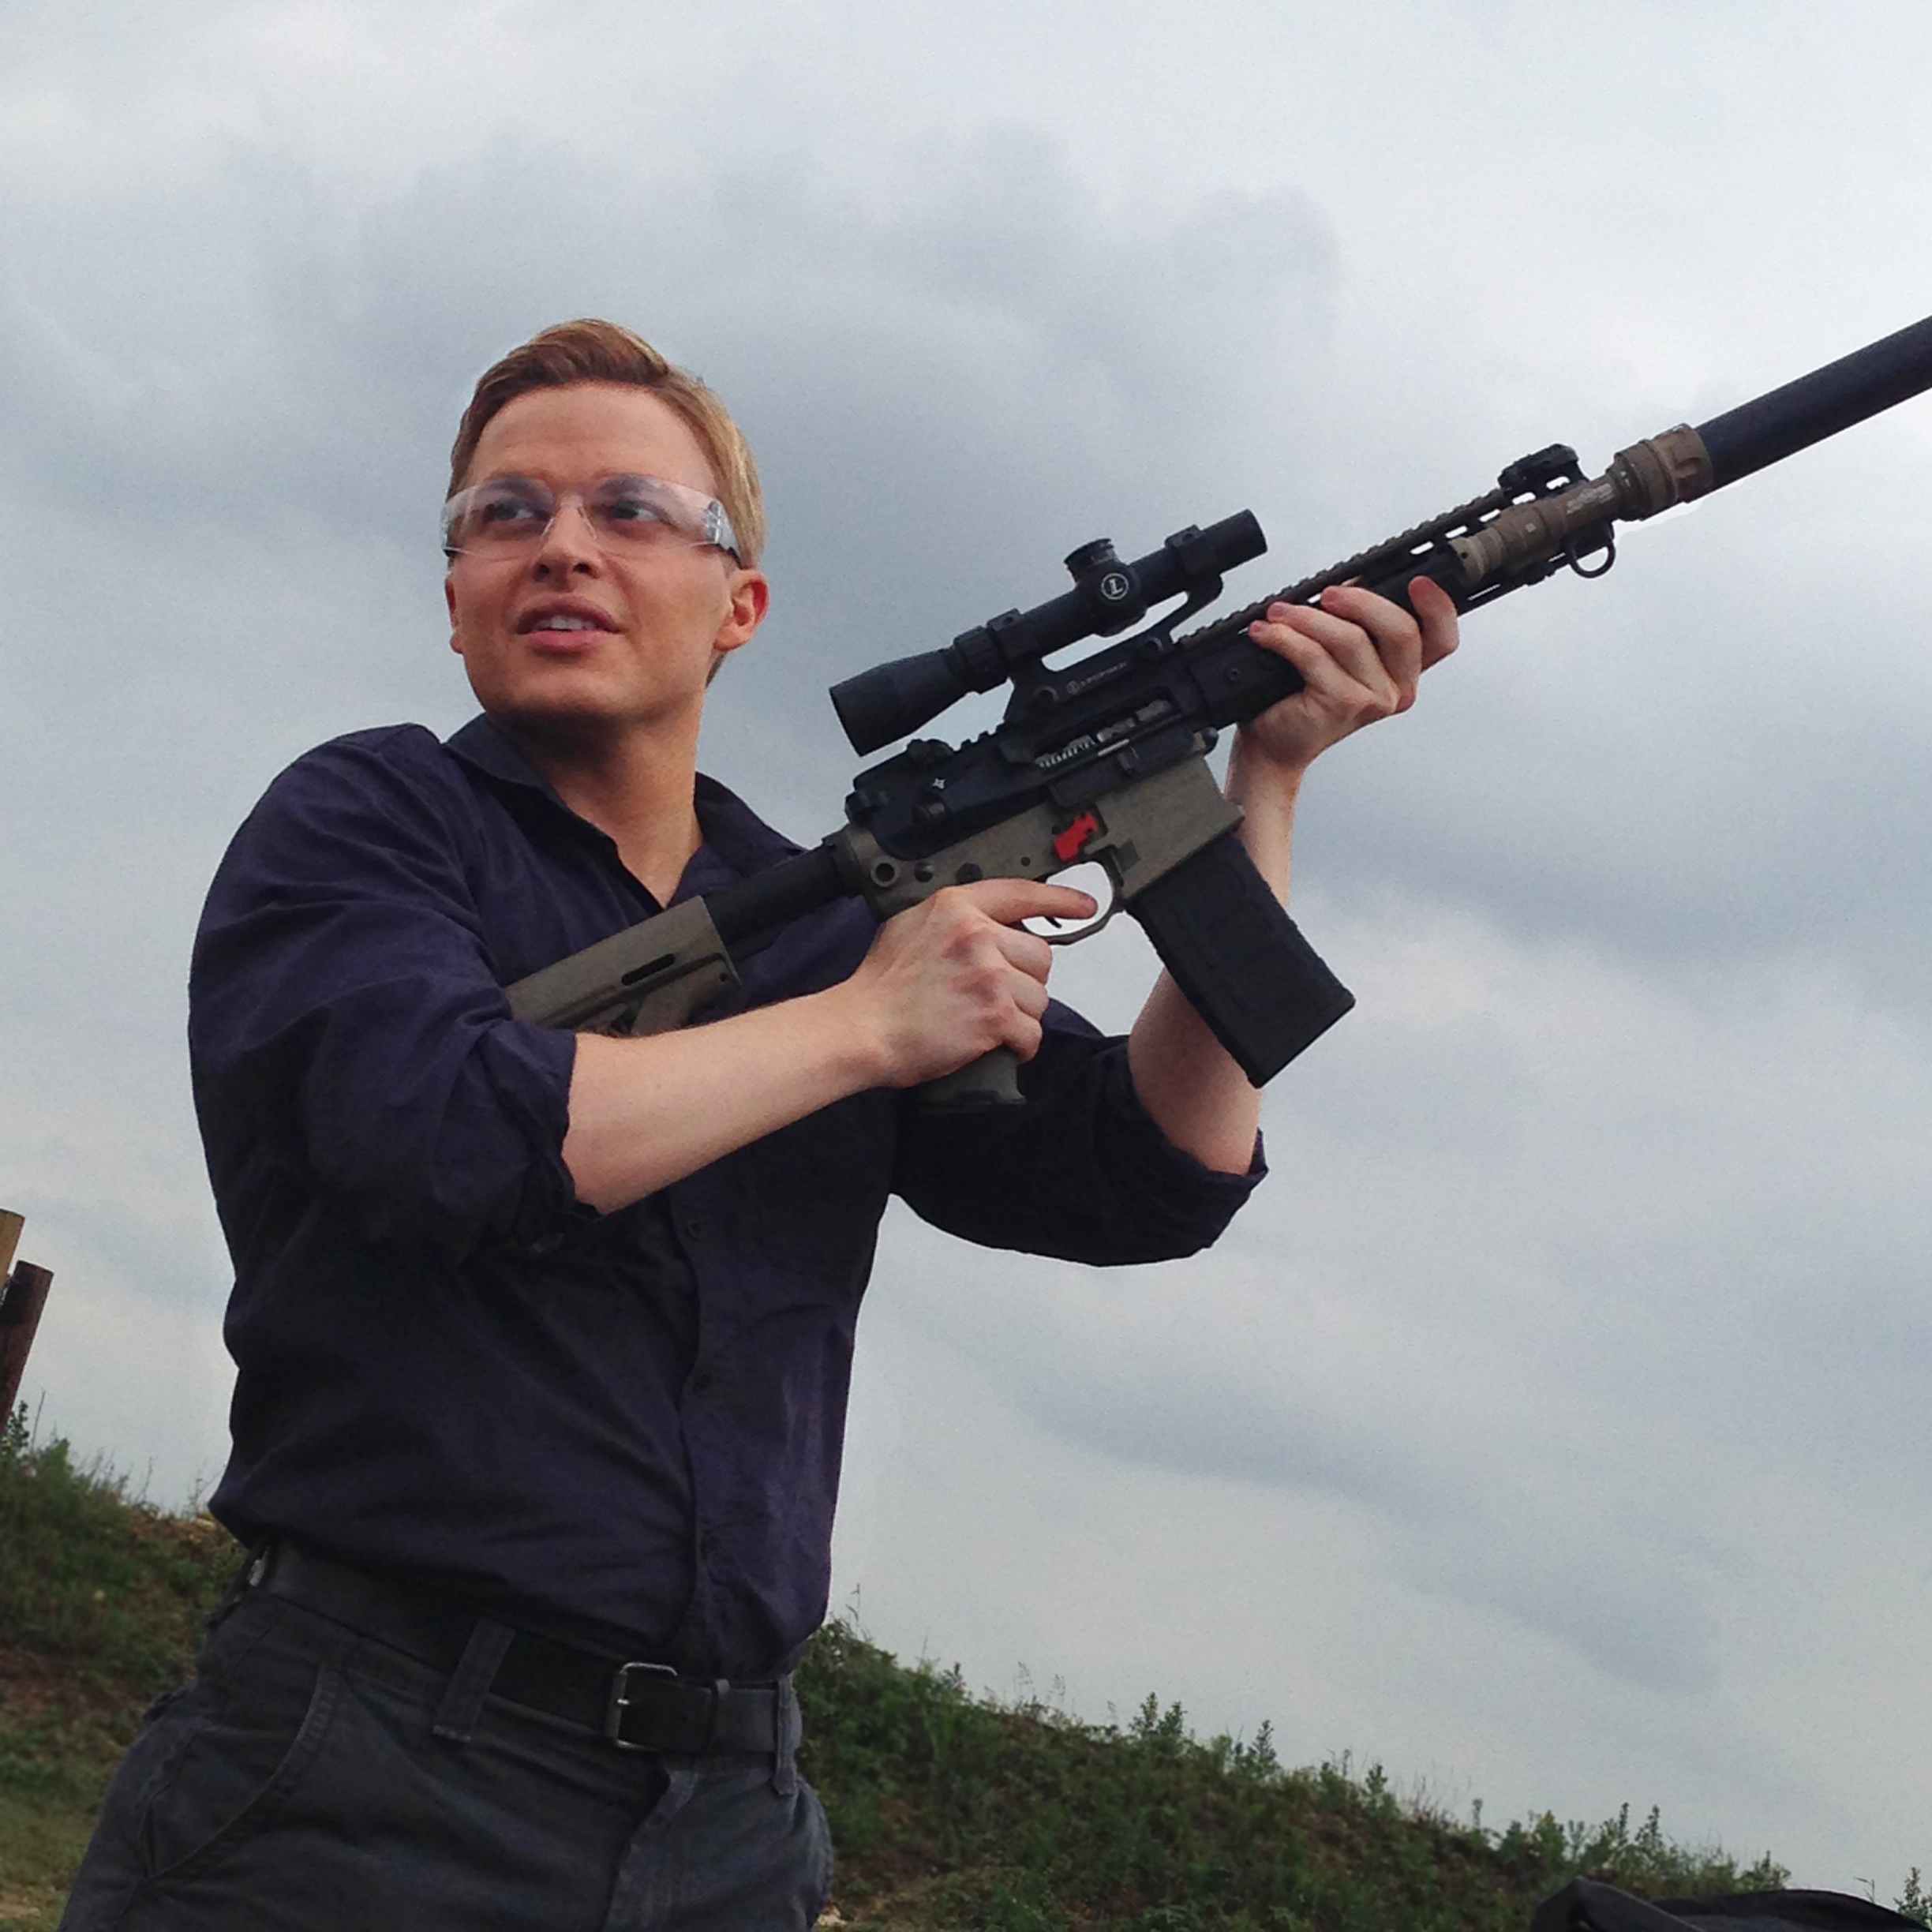rifle: (488, 299, 1932, 1230)
